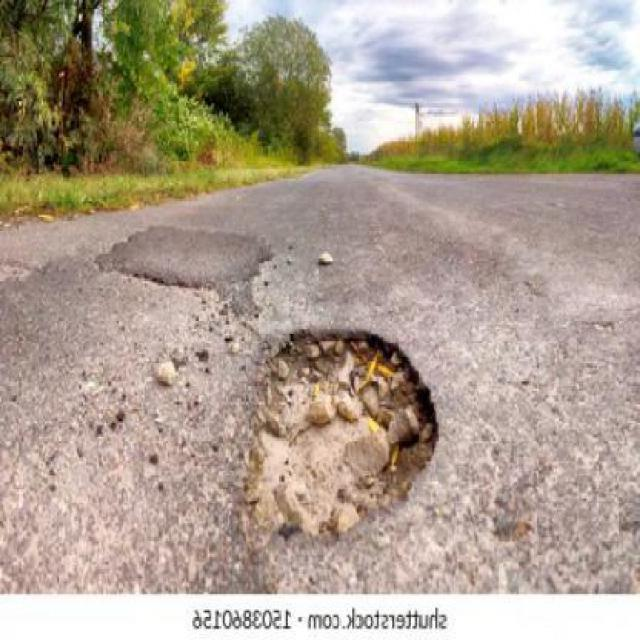pothole: (235, 322, 443, 544)
